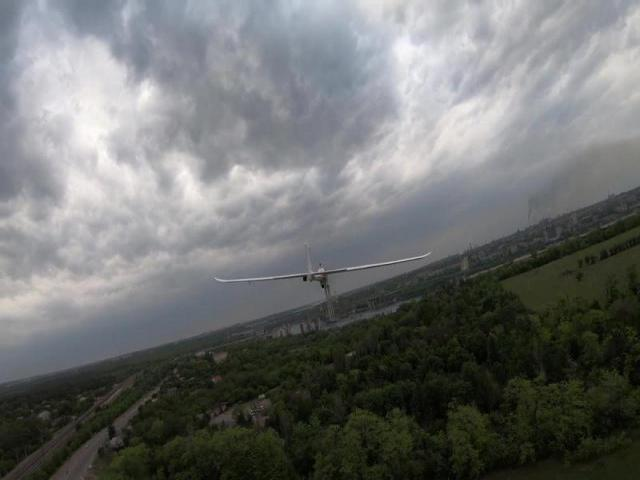hedef: (184, 230, 451, 312)
